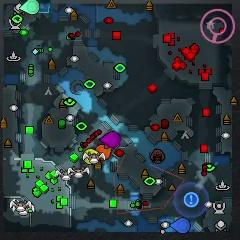Other: (184, 192, 199, 207)
p1: (170, 218, 191, 233)
p2: (19, 0, 40, 15)
p3: (100, 131, 121, 148)
p4: (83, 148, 99, 165)
p5: (96, 145, 112, 159)
